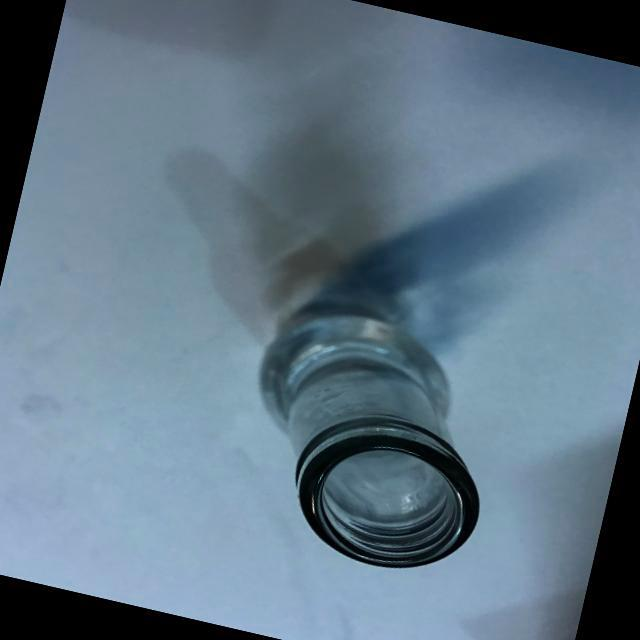glass: (212, 256, 530, 594)
